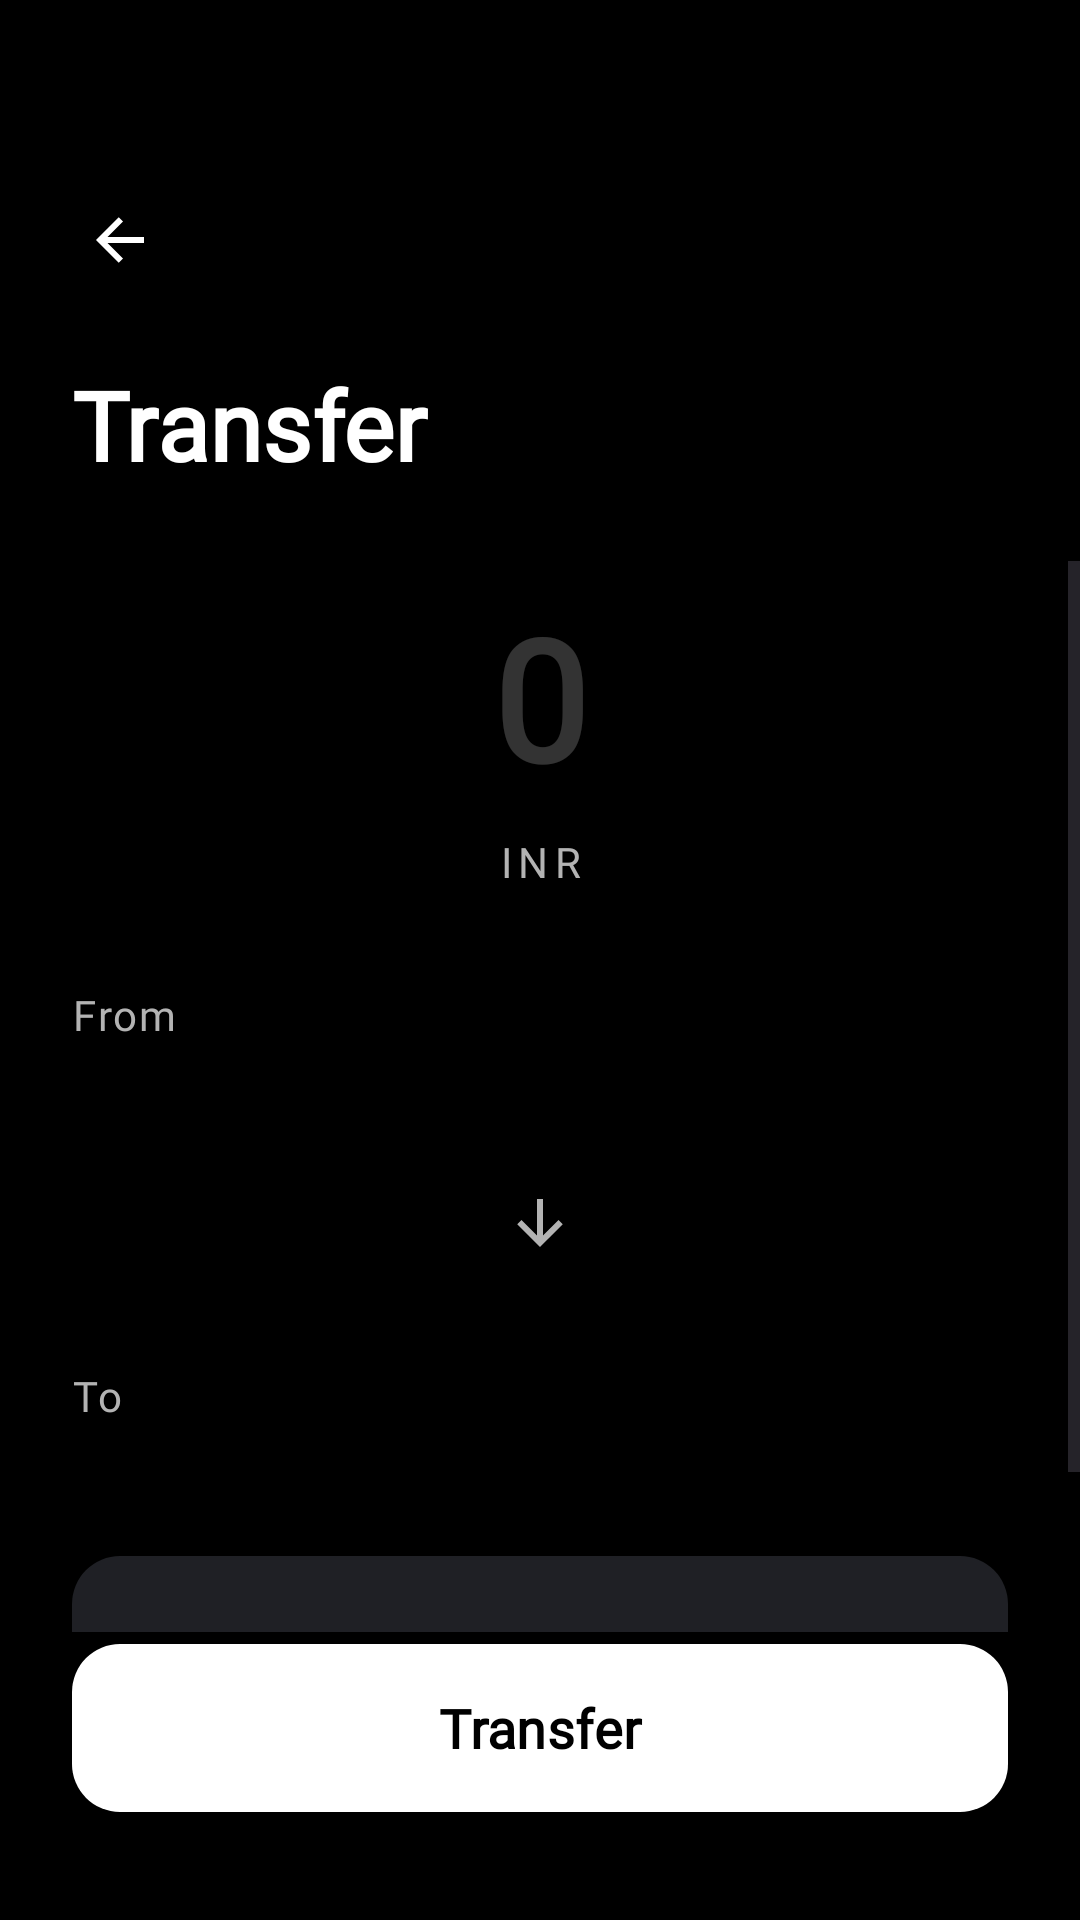

Named icons in this screenshot (1080x1920) and their centers, [x,y]:
minimal down: [540,1223]
